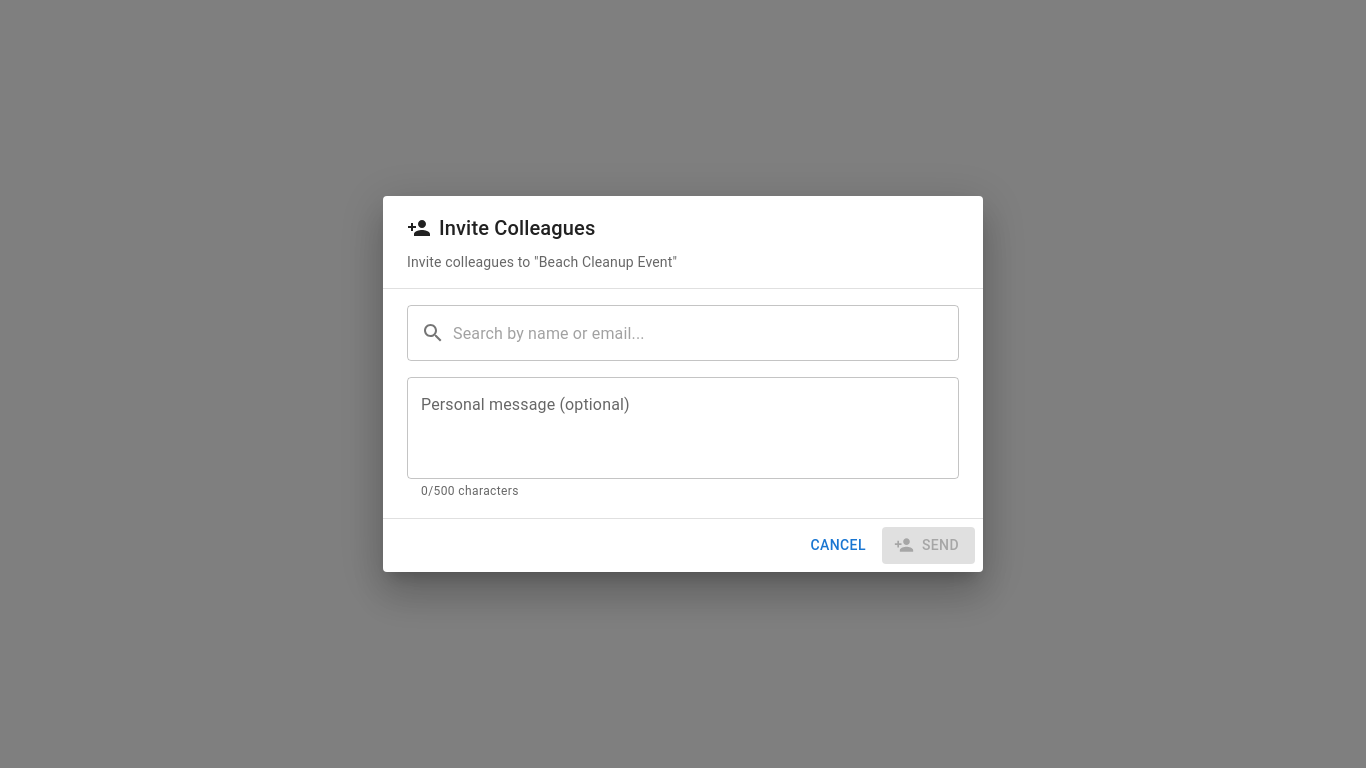
InviteColleaguesDialog Component › should select and deselect users
Type "test" into the field with placeholder "Search by name or email...".
click(706, 333); type("test")  # box [453, 305, 959, 361]
Wait 500 ms
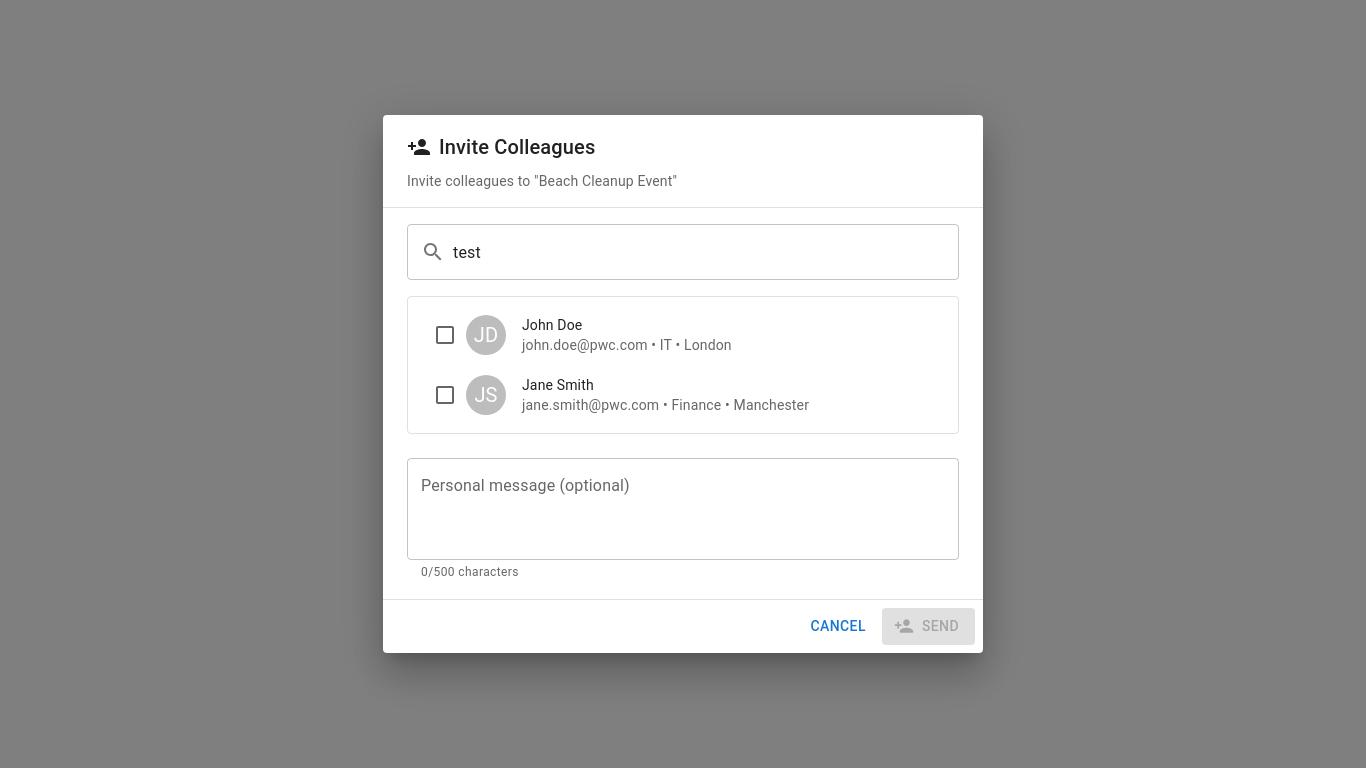
Expected: the text "John Doe" is shown, [522, 317, 582, 333]
Click the 1st checkbox.
click(445, 335)  # box [433, 323, 457, 347]
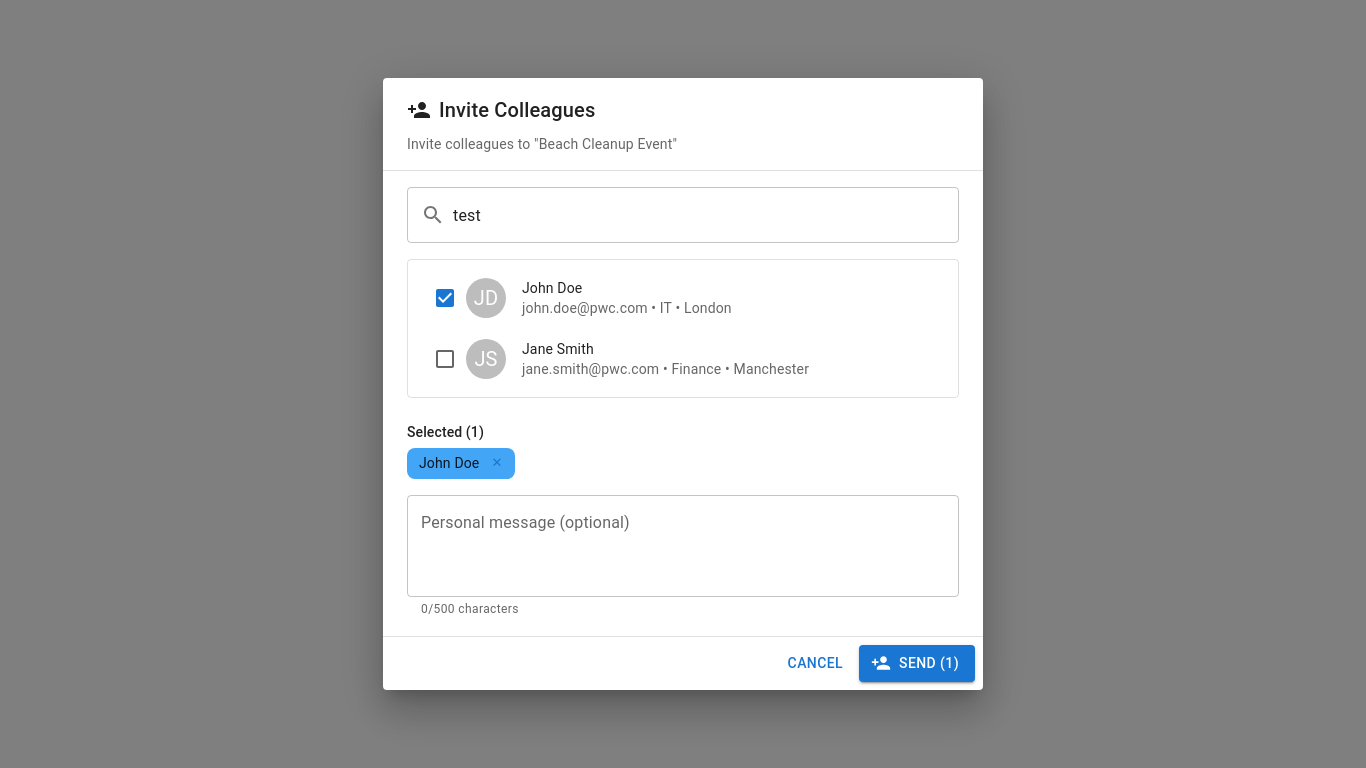
Expected: the heading "Selected (1)" is shown, [407, 424, 484, 440]
Click the 1st checkbox.
click(445, 298)  # box [433, 286, 457, 310]
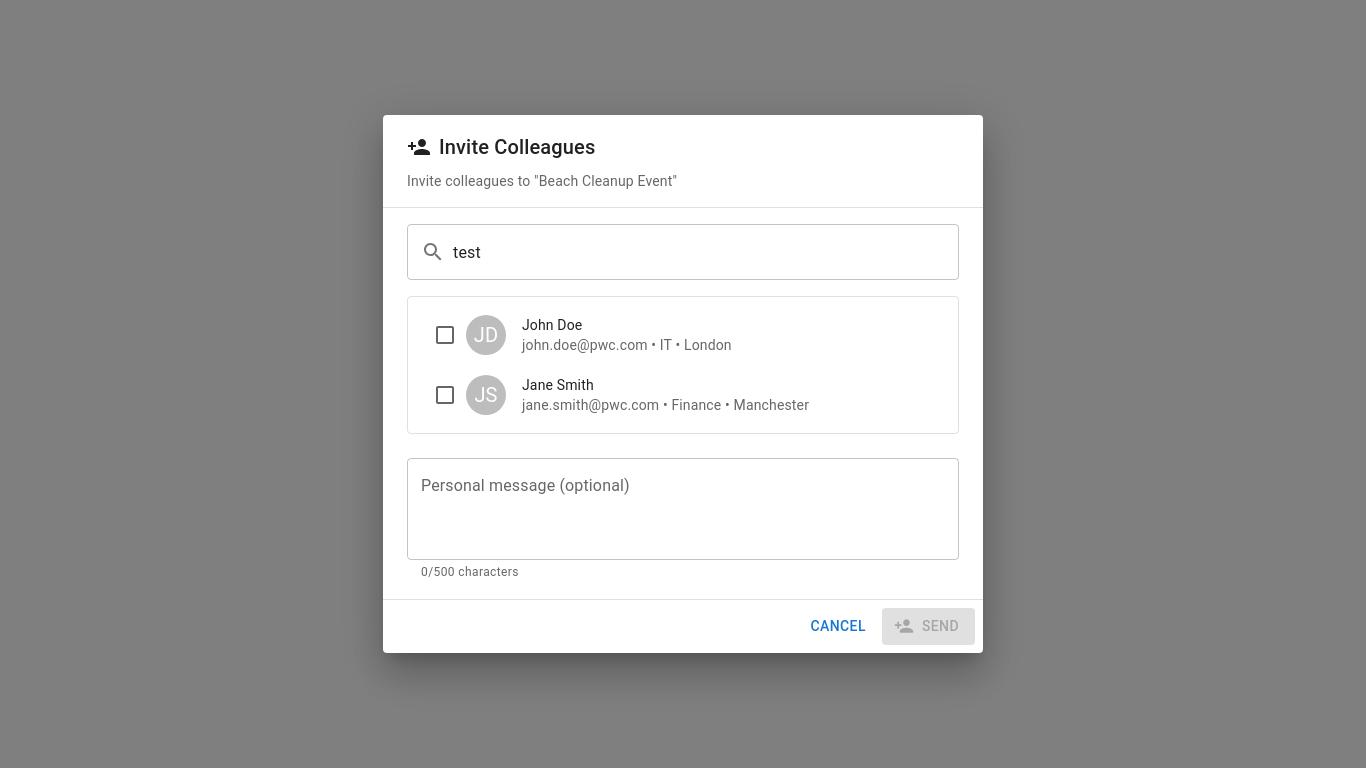
Expected: the heading "Selected (1)" is gone
